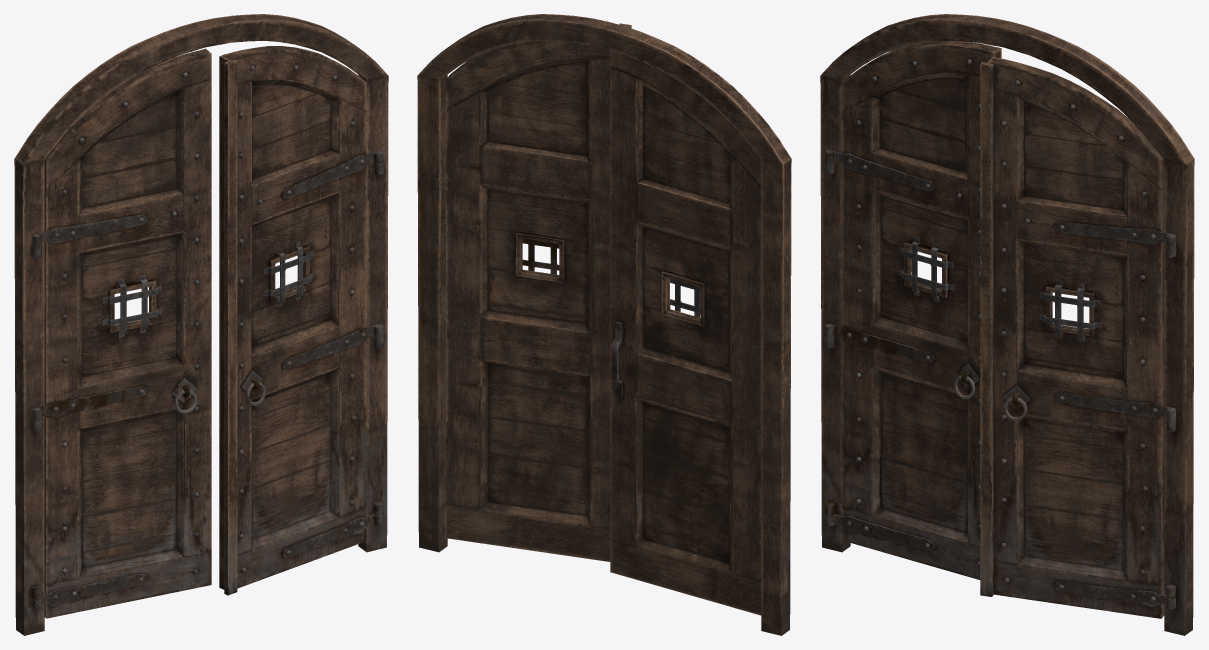
The model's file is large_castle_door.glb.
The picture shows the model from 3 angles, left to right: view 1: azimuth 30°, elevation 25°; view 2: azimuth 150°, elevation 25°; view 3: azimuth 330°, elevation 25°; orthographic projection.
Parts seen in each view (by area): view 1: large_castle_door_left, large_castle_door_right, large_castle_door_frame; view 2: large_castle_door_right, large_castle_door_left, large_castle_door_frame; view 3: large_castle_door_right, large_castle_door_left, large_castle_door_frame.
Part boxes in pixels (bbox=[...]): large_castle_door_left: bbox=[32, 48, 211, 618]; large_castle_door_right: bbox=[219, 46, 383, 595]; large_castle_door_frame: bbox=[14, 14, 388, 635]; large_castle_door_right: bbox=[446, 23, 631, 561]; large_castle_door_left: bbox=[610, 50, 761, 615]; large_castle_door_frame: bbox=[417, 14, 791, 635]; large_castle_door_right: bbox=[980, 57, 1175, 618]; large_castle_door_left: bbox=[824, 41, 1001, 579]; large_castle_door_frame: bbox=[820, 14, 1194, 635].
Bounding box in the file's own units: 2.01 × 2.96 × 0.2963.
1 material, 1 textured.
